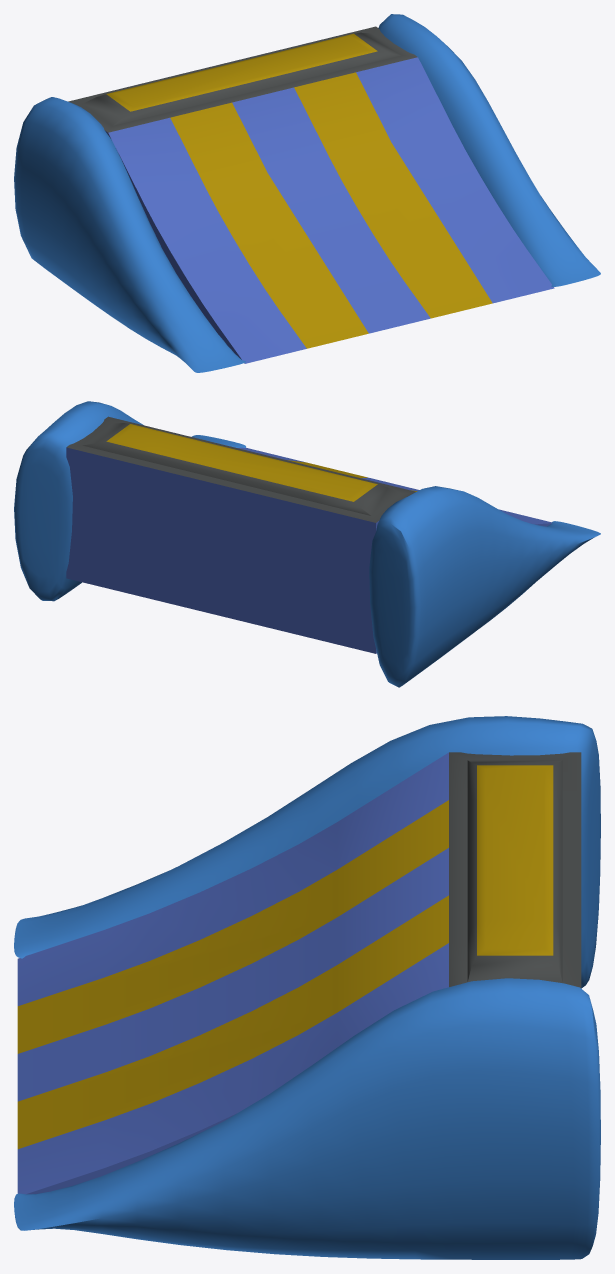
The model's file is Ramp.fbx.
3 views of the same model, one above another, from view 1: azimuth 30°, elevation 25°; view 2: azimuth 150°, elevation 25°; view 3: azimuth 270°, elevation 25° (orthographic). The views are drawn at different scales.
Parts seen in each view (by area): view 1: Ramp; view 2: Ramp; view 3: Ramp.
Boxes of the visible parts, x1,y1,x2,y2 form: Ramp: (14, 14, 600, 372); Ramp: (14, 401, 600, 687); Ramp: (14, 716, 600, 1259).
Size of the model in its own units: 86.36 by 35.09 by 68.56.
